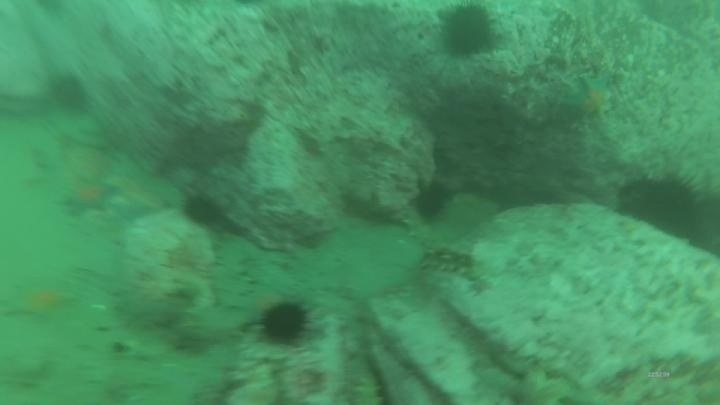echinus: (615, 170, 704, 238), (435, 2, 499, 61), (258, 300, 312, 346), (46, 71, 91, 115), (411, 180, 452, 223), (180, 192, 224, 229)
holothurian: (198, 233, 257, 305), (418, 243, 483, 282)
starfish: (3, 277, 78, 325), (562, 71, 616, 123), (59, 175, 120, 219), (230, 285, 291, 328)
